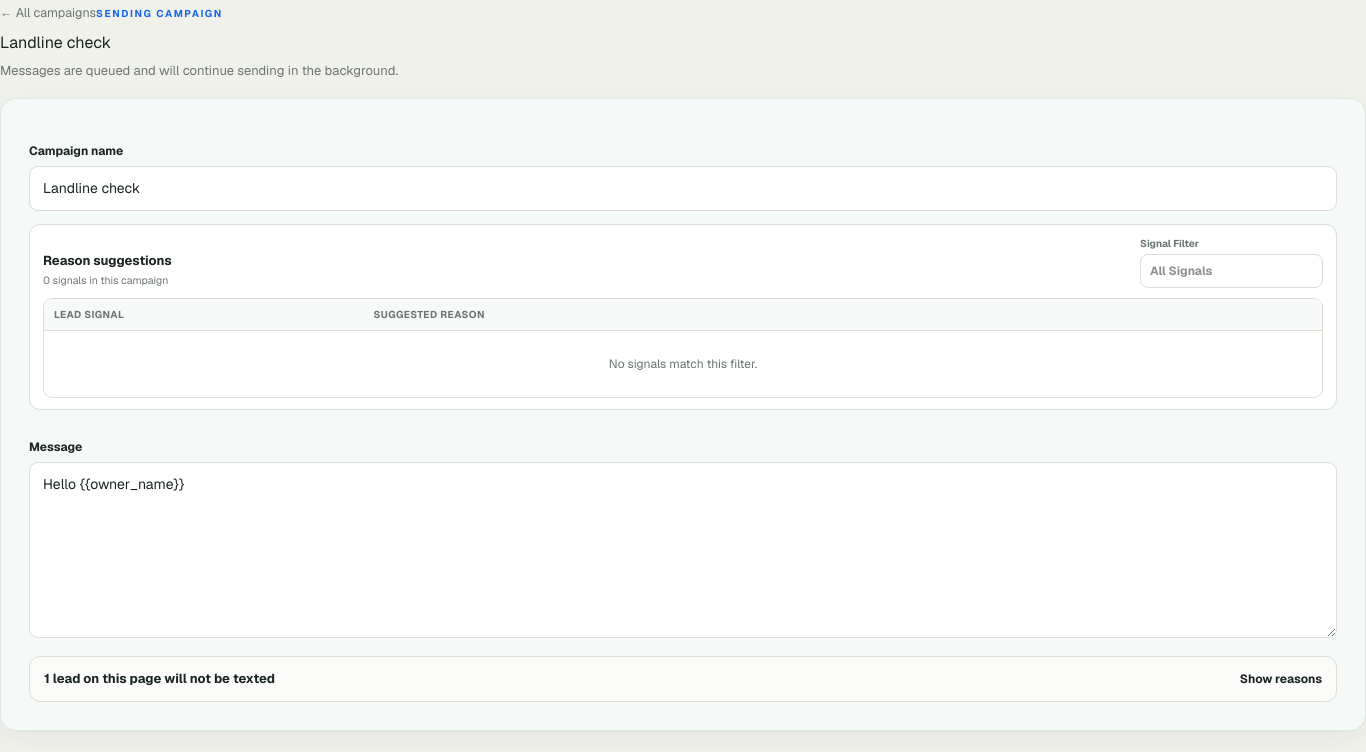
Scenario: CampaignComposer recipient pagination › keeps skipped leads collapsed and shows the exact reason on request
Click the heading "Show reasons": [178, 679] box top-left (44, 669), bottom-right (1322, 689)
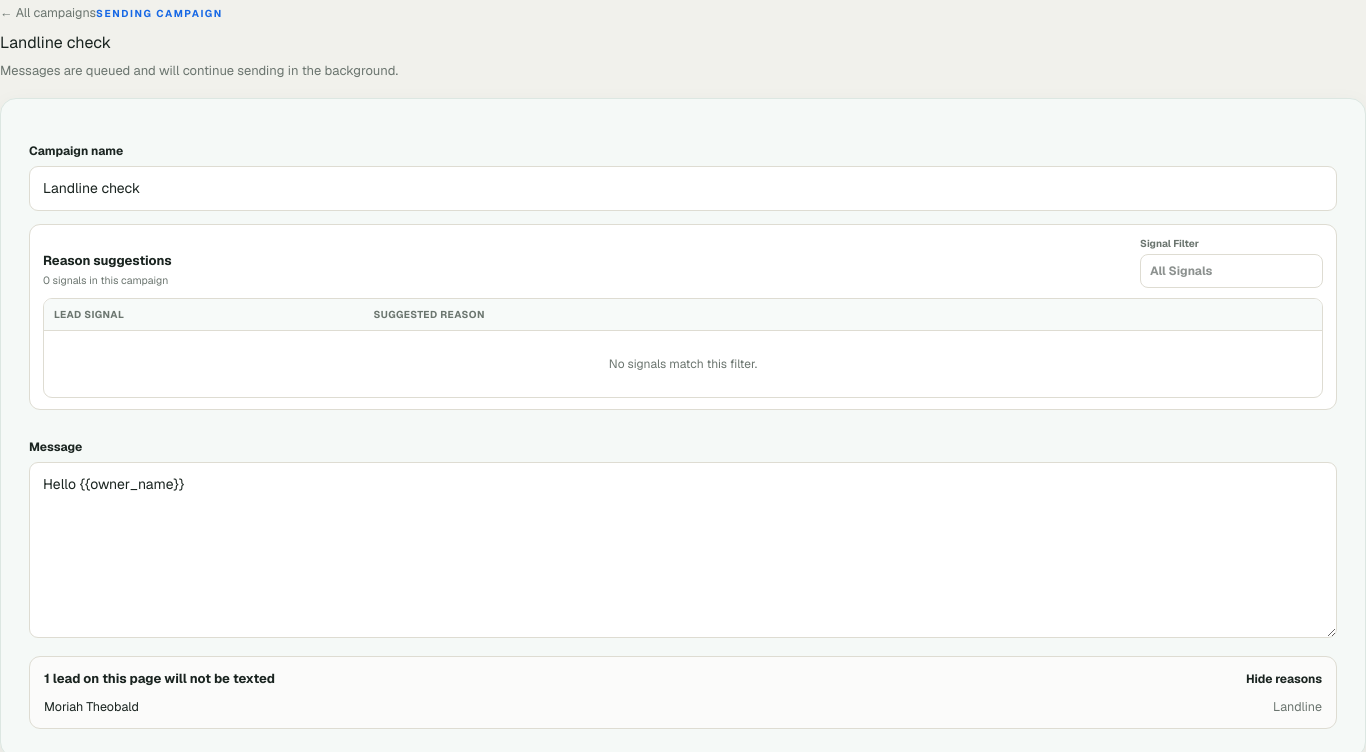
Result: the text "Hide reasons" is shown at top-left (1246, 671), bottom-right (1322, 687)
